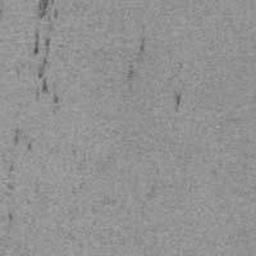Inclusion: (35, 31, 61, 105), (13, 128, 33, 152), (37, 0, 60, 20), (134, 38, 147, 59), (174, 93, 183, 114), (127, 65, 137, 82), (0, 0, 5, 32), (6, 182, 17, 191), (9, 164, 17, 173), (9, 212, 15, 223)
